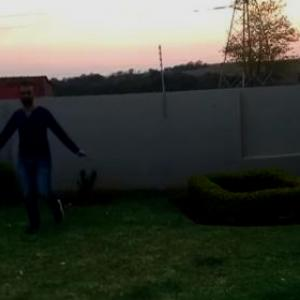land: (1, 96, 89, 232)
